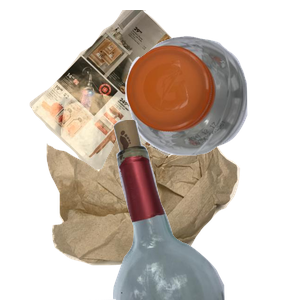glass: (89, 120, 300, 300)
paper: (27, 10, 230, 190)
plastic: (123, 33, 300, 181)
trash: (44, 136, 277, 300)
